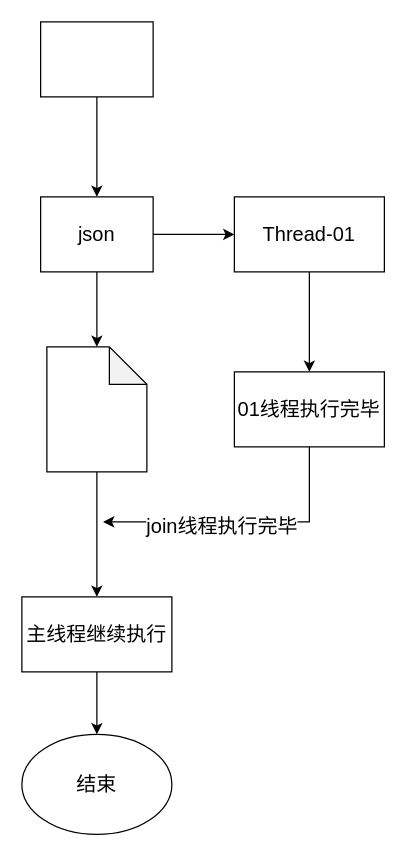
The diagram is 406 pixels wide and 856 high, and some of its shapes have lost their labels. The centre of each missing label's shape, as x and y in pixels:
"主线程" belongs at (x=96, y=59).
"线程挂起 阻塞" belongs at (x=96, y=409).
